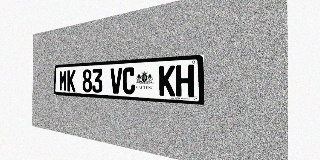3: (92, 68, 102, 93)
8: (82, 69, 92, 92)
C: (122, 67, 135, 94)
H: (176, 64, 194, 97)
K: (159, 65, 175, 96), (67, 70, 75, 92)
M: (59, 70, 67, 91)
V: (110, 68, 122, 94)
